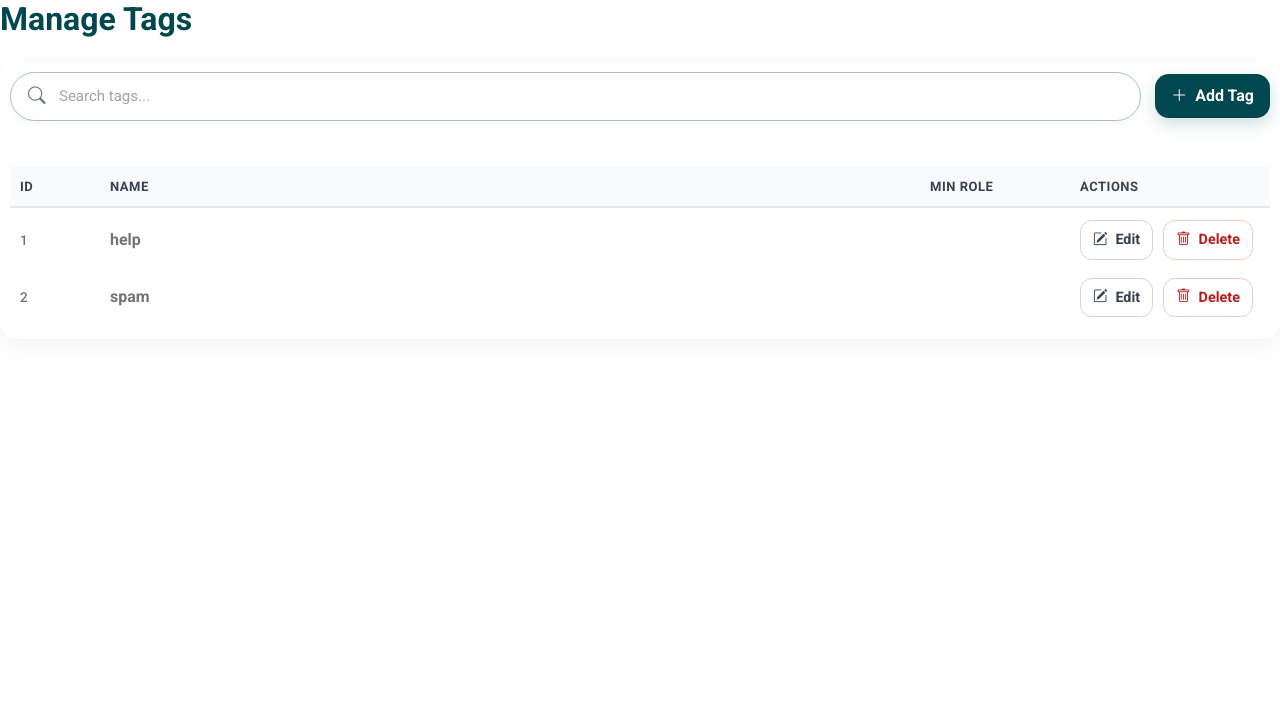
Scenario: AdminTags.vue › displays tags and delete opens confirmation with cannot be undone
Check: the table with class "admin-table" is shown, box [10, 160, 1270, 329]
Click the button with class "danger" in the row of "help" at (1208, 240), box [1163, 220, 1253, 260]
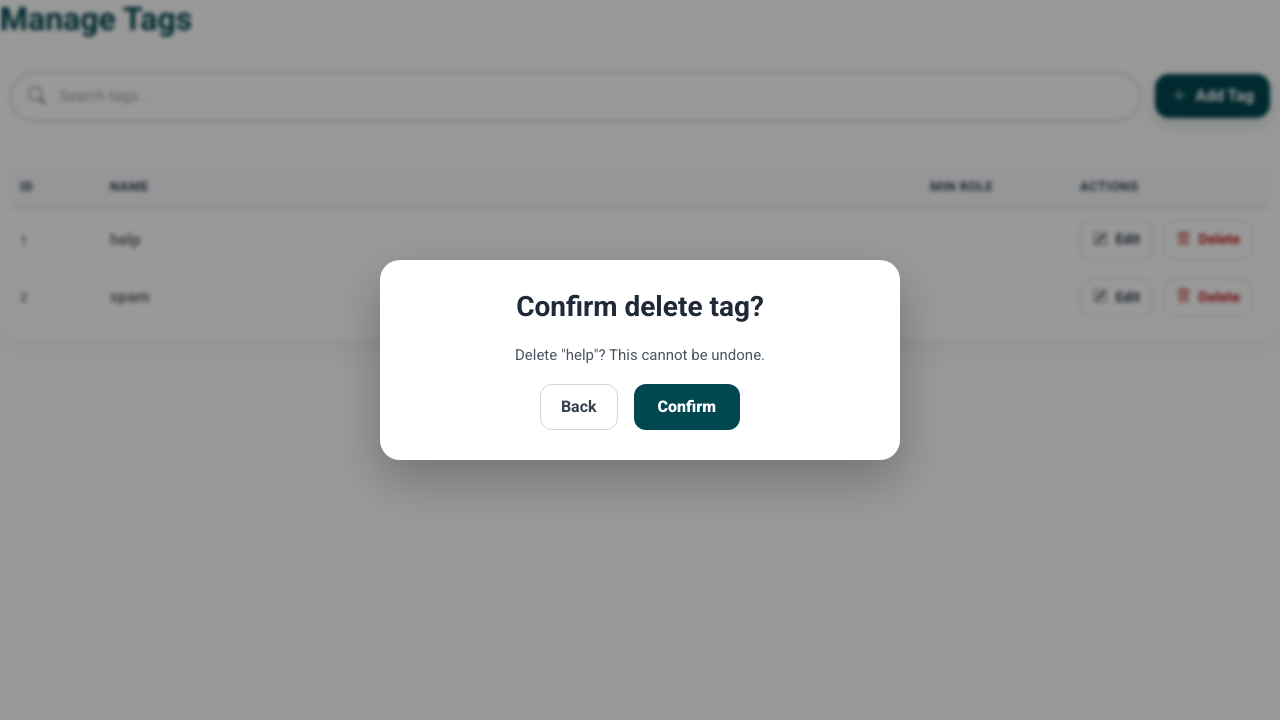
Check: the heading with class "confirm-title" reads "Confirm delete tag?", box [516, 290, 764, 323]
Check: the text "cannot be undone" is shown, box [515, 346, 765, 364]
